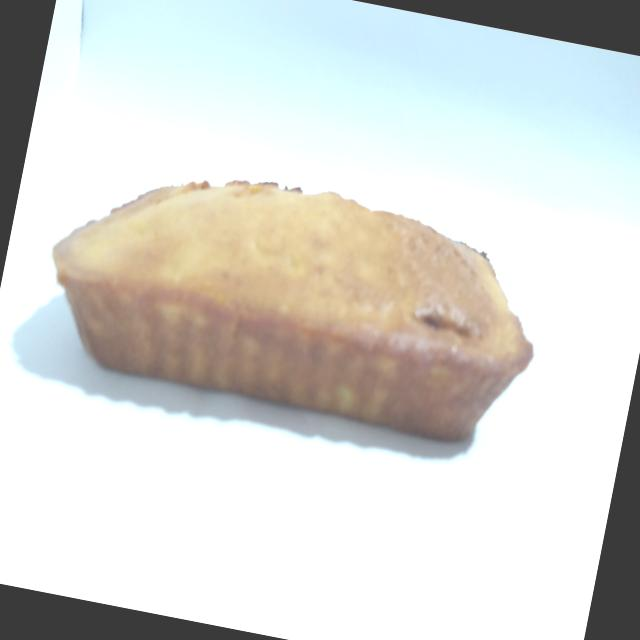Sopa: (18, 113, 576, 485)
